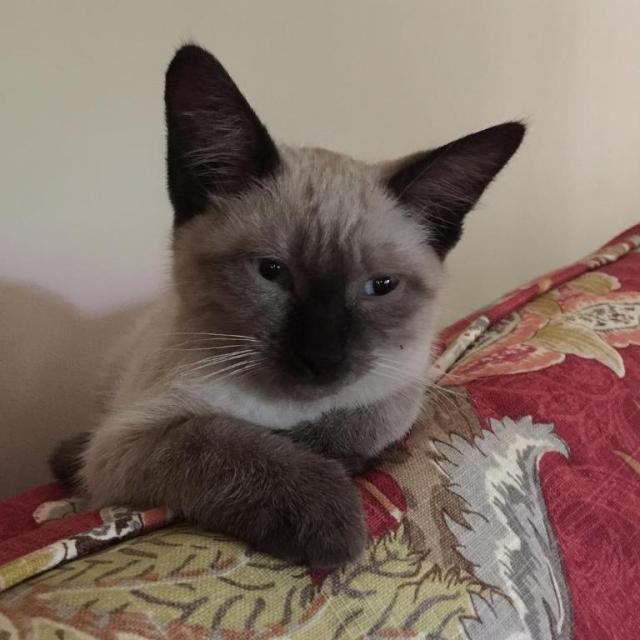Cat: (0, 37, 528, 571)
